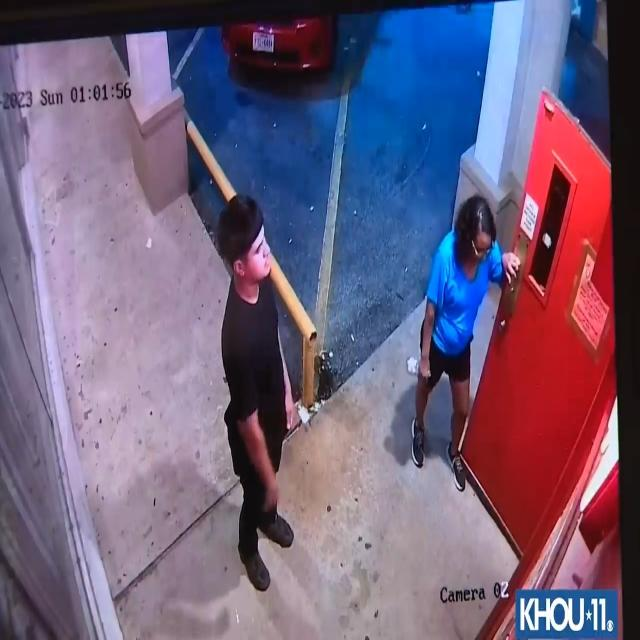Person: (210, 188, 304, 592), (409, 185, 523, 516)
